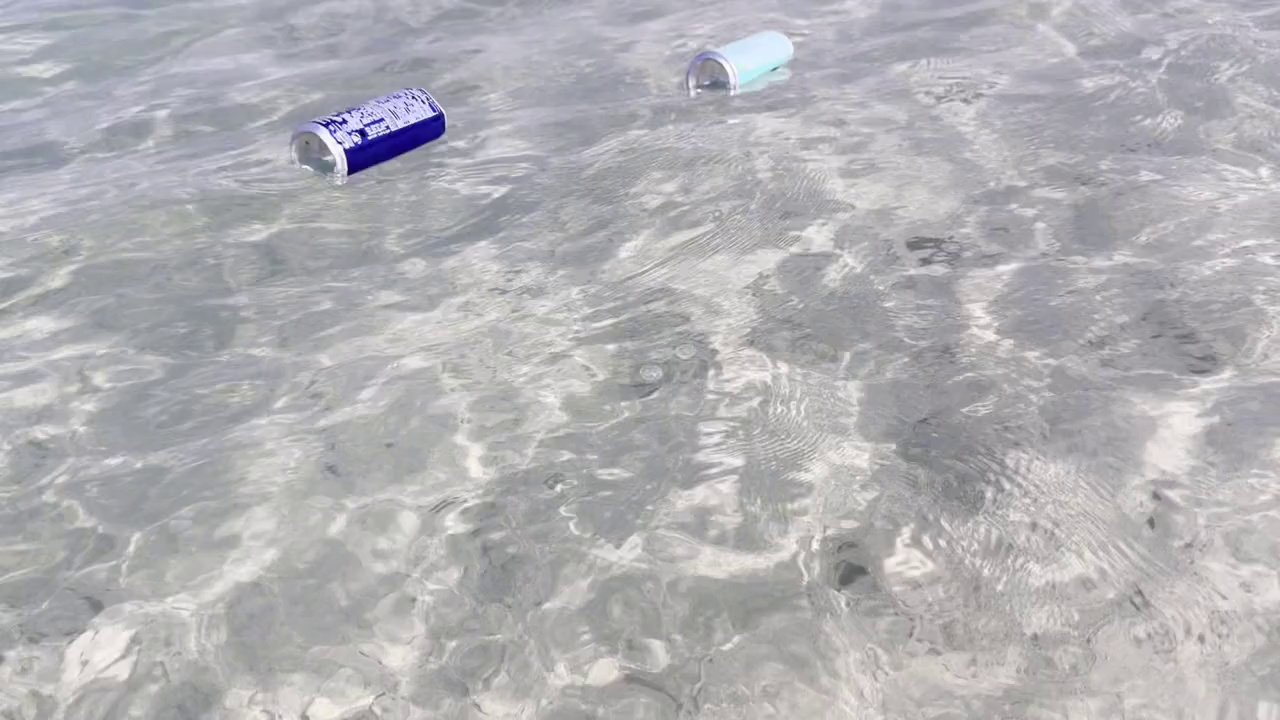debris: (281, 77, 459, 187), (661, 16, 813, 104)
